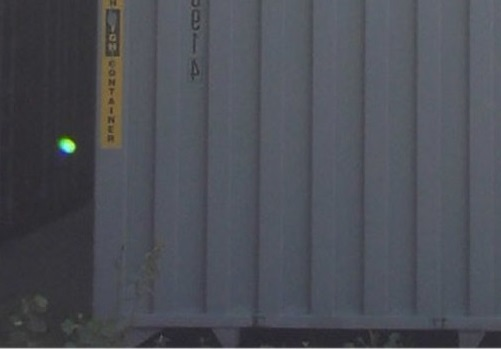container_no_door: (96, 2, 498, 346)
